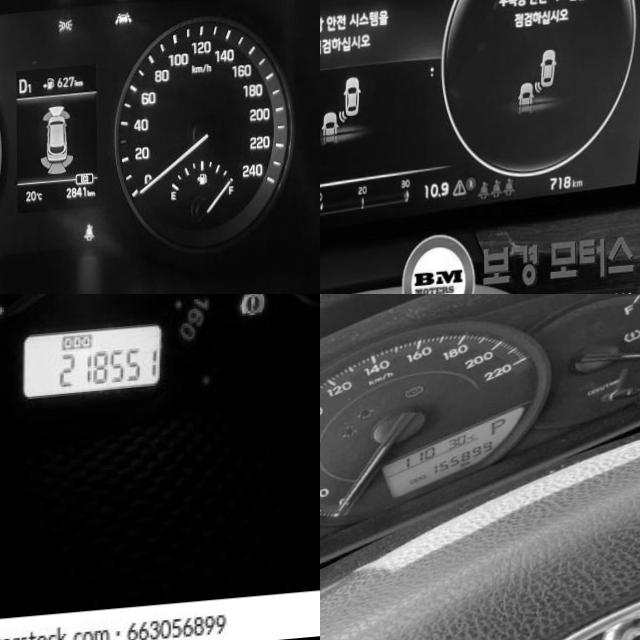SideLamp: (57, 24, 72, 39)
